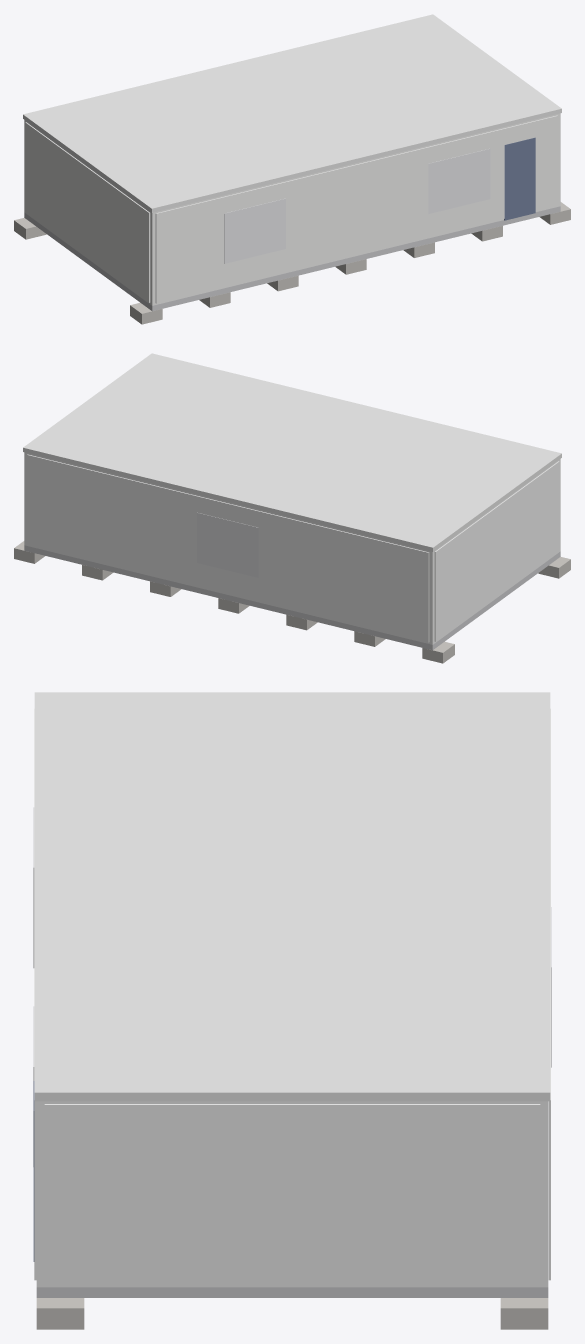
The model's file is Studio-40-Premium-LOD1.glb.
3 views of the same model, one above another, from view 1: azimuth 30°, elevation 25°; view 2: azimuth 150°, elevation 25°; view 3: azimuth 270°, elevation 25° (orthographic). The views are drawn at different scales.
Visible parts, largest first — view 1: RoofMain, ExteriorPanelsPremium, WindowsLargeUpgrade, BaseFrame, ExteriorShell, FoundationBlocks, EntryDoor; view 2: RoofMain, ExteriorPanelsPremium, BaseFrame, WindowsLargeUpgrade, ExteriorShell, FoundationBlocks; view 3: RoofMain, ExteriorPanelsPremium, ExteriorShell, BaseFrame, FoundationBlocks.
Boxes of the visible parts, bbox=[...] form: RoofMain: bbox=[23, 14, 561, 212]; ExteriorPanelsPremium: bbox=[25, 115, 557, 303]; WindowsLargeUpgrade: bbox=[224, 148, 490, 263]; BaseFrame: bbox=[24, 206, 560, 311]; ExteriorShell: bbox=[24, 113, 560, 305]; FoundationBlocks: bbox=[14, 202, 570, 324]; EntryDoor: bbox=[504, 137, 535, 220]; RoofMain: bbox=[23, 353, 561, 551]; ExteriorPanelsPremium: bbox=[27, 454, 559, 642]; BaseFrame: bbox=[24, 545, 560, 650]; WindowsLargeUpgrade: bbox=[197, 512, 258, 577]; ExteriorShell: bbox=[24, 452, 560, 644]; FoundationBlocks: bbox=[14, 541, 570, 663]; RoofMain: bbox=[34, 692, 550, 1101]; ExteriorPanelsPremium: bbox=[34, 708, 550, 1284]; ExteriorShell: bbox=[36, 1101, 548, 1287]; BaseFrame: bbox=[36, 1287, 548, 1297]; FoundationBlocks: bbox=[36, 1298, 548, 1329].
Size of the model in its own units: 12.49 by 3.17 by 6.53.
